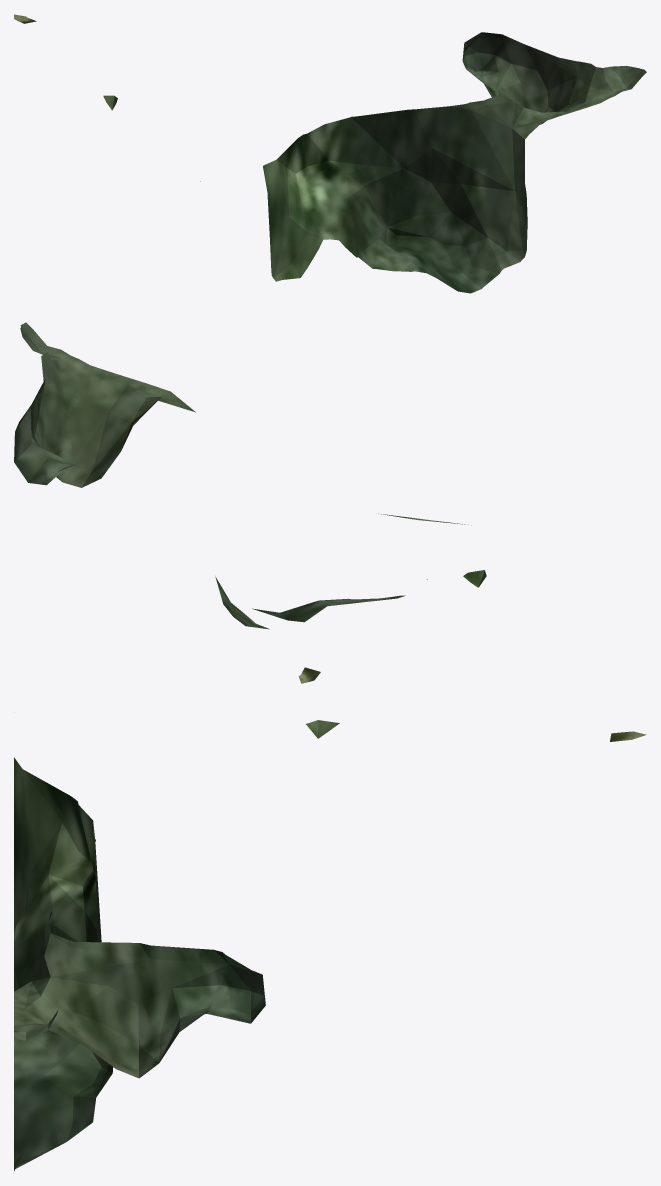
3 renders of one model, top to bottom at view 1: azimuth 30°, elevation 25°; view 2: azimuth 150°, elevation 25°; view 3: azimuth 270°, elevation 25°, orthographic. The views are drawn at different scales.
Size of the model in its own units: 2.59 by 0.9869 by 2.18.
1 material, 1 textured.
